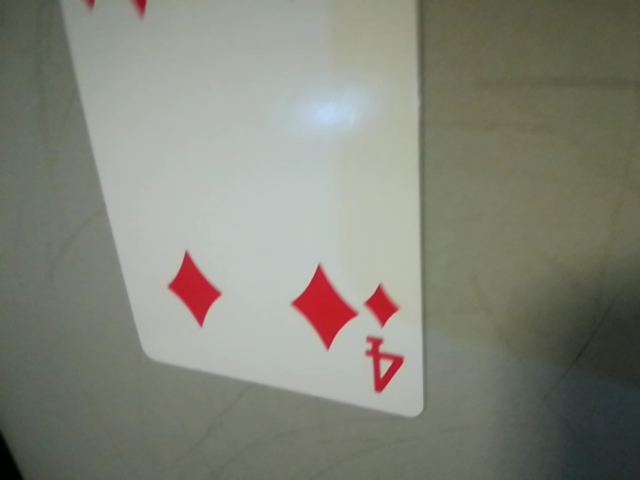fk 4: (352, 268, 417, 404)
